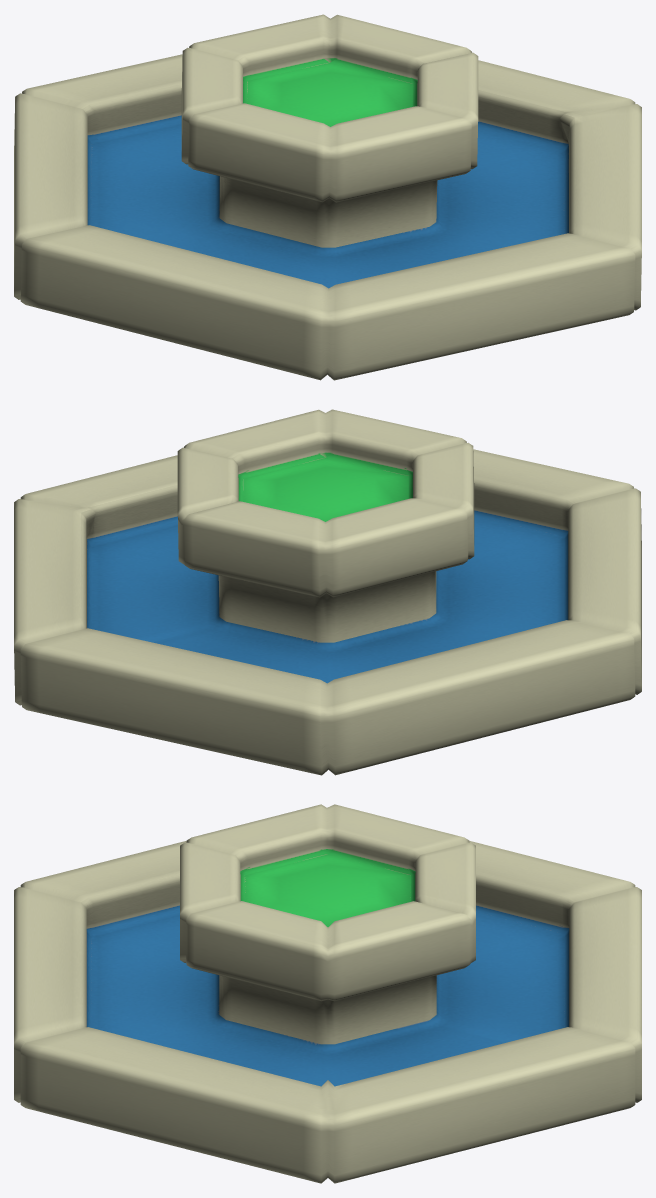
File: fountainunity.fbx
The picture shows the model from 3 angles, top to bottom: view 1: azimuth 30°, elevation 25°; view 2: azimuth 150°, elevation 25°; view 3: azimuth 270°, elevation 25°; orthographic projection.
Parts seen in each view (by area): view 1: Fountain; view 2: Fountain; view 3: Fountain.
Part boxes in pixels (bbox=[...]): Fountain: bbox=[14, 14, 641, 380]; Fountain: bbox=[14, 409, 641, 775]; Fountain: bbox=[14, 804, 641, 1183].
Bounding box in the file's own units: 595 × 149 × 520.
